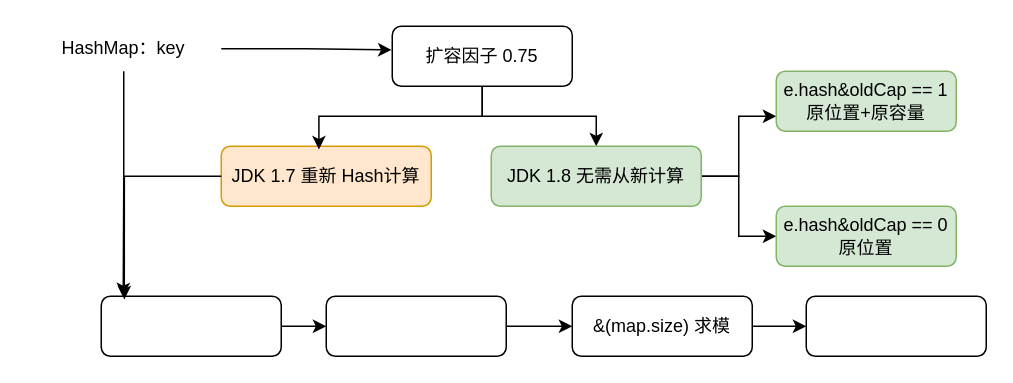
Image size: 1013x383. Some labels were removed from this diagram. The centre of each missing label's shape, as x and y in pixels:
"key.hashcode()" belongs at [190,325].
"存放在对应 tab[Idex]" belongs at [895,325].
"扰动函数" belongs at [415,325].
